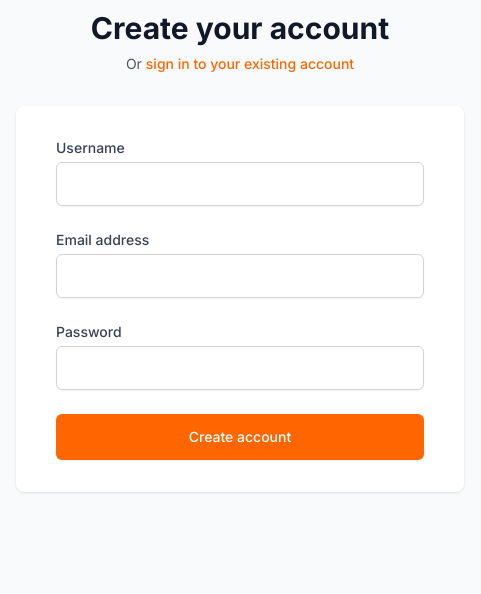
Test case: Signup Page › Form Validation - Email › should show error when email format is invalid
The width and height of the screenshot is (481, 594).
Type "invalid-email" into the field labelled "Email address" at (240, 276), box [56,254,424,298]
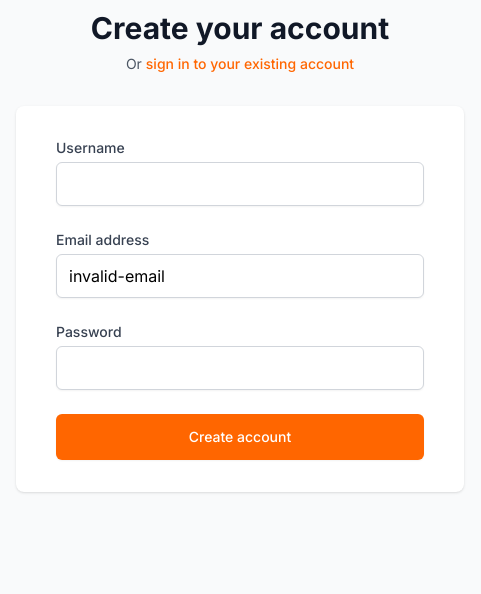
Click the button "Create account" at (240, 437), box [56,414,424,460]
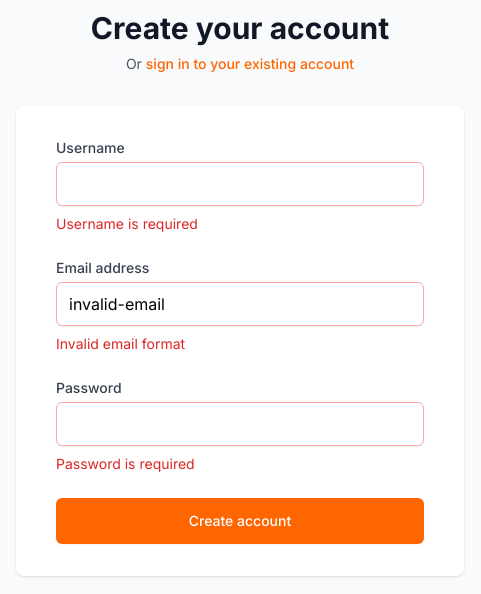
Now the text "Invalid email format" is shown, box [56,335,185,352]
